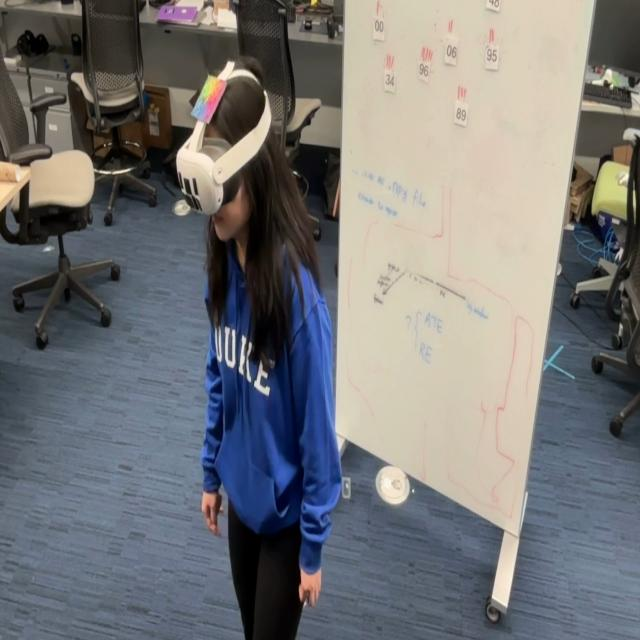Headset: (175, 64, 272, 216)
Marker: (191, 70, 227, 128)
